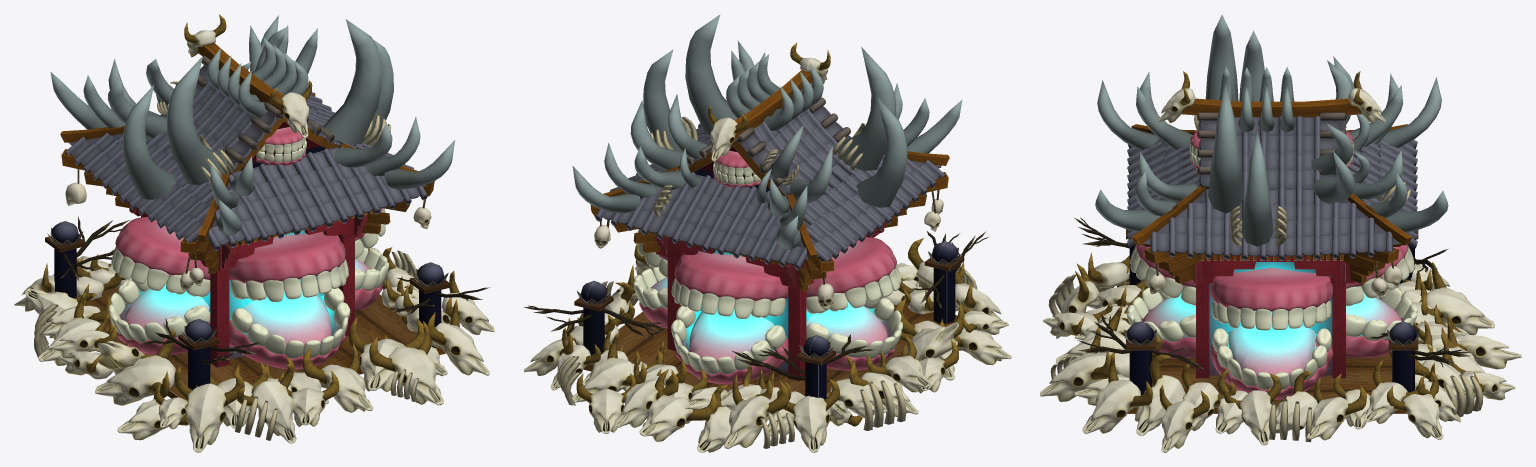
The model's file is malevolent_shrine__jujutsu_kaisen.glb.
The picture shows the model from 3 angles, left to right: view 1: azimuth 30°, elevation 25°; view 2: azimuth 150°, elevation 25°; view 3: azimuth 270°, elevation 25°; orthographic projection. The views are drawn at different scales.
Parts seen in each view (by area): view 1: Shrine2, Bull_Skulls1, Mouths1, Horns1, Ribs, Branches, Skulls, Innards; view 2: Shrine2, Bull_Skulls1, Horns1, Mouths1, Ribs, Branches, Skulls, Innards; view 3: Shrine2, Bull_Skulls1, Horns1, Mouths1, Ribs, Branches, Innards, Skulls.
Boxes of the visible parts, left/top/right/bottom form: Shrine2: left=45, top=43, right=450, bottom=400; Bull_Skulls1: left=14, top=14, right=494, bottom=452; Mouths1: left=108, top=127, right=389, bottom=369; Horns1: left=50, top=15, right=454, bottom=235; Ribs: left=34, top=81, right=418, bottom=440; Branches: left=61, top=216, right=490, bottom=364; Skulls: left=65, top=182, right=431, bottom=290; Innards: left=169, top=229, right=324, bottom=358; Shrine2: left=574, top=70, right=964, bottom=421; Bull_Skulls1: left=523, top=42, right=1011, bottom=452; Horns1: left=572, top=14, right=962, bottom=250; Mouths1: left=633, top=150, right=902, bottom=384; Ribs: left=557, top=116, right=977, bottom=448; Branches: left=523, top=231, right=988, bottom=380; Skulls: left=594, top=199, right=943, bottom=310; Innards: left=698, top=250, right=844, bottom=372; Shrine2: left=1124, top=98, right=1419, bottom=413; Bull_Skulls1: left=1040, top=71, right=1521, bottom=452; Horns1: left=1095, top=14, right=1448, bottom=246; Mouths1: left=1127, top=130, right=1417, bottom=399; Ribs: left=1048, top=115, right=1483, bottom=442; Branches: left=1074, top=217, right=1470, bottom=370; Innards: left=1209, top=262, right=1332, bottom=375; Skulls: left=1148, top=265, right=1402, bottom=297.
Size of the model in its own units: 0.3616 by 0.3038 by 0.4001.
Materials: 5 (5 with a texture image).
